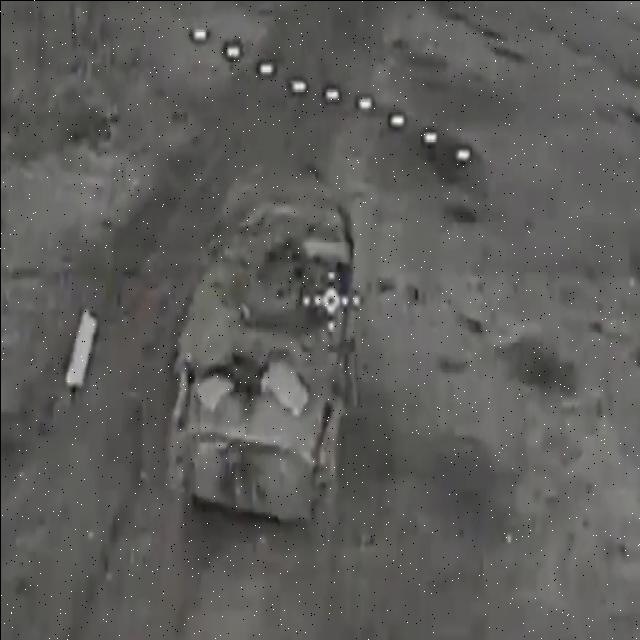APC-IFV: (166, 147, 366, 533)
